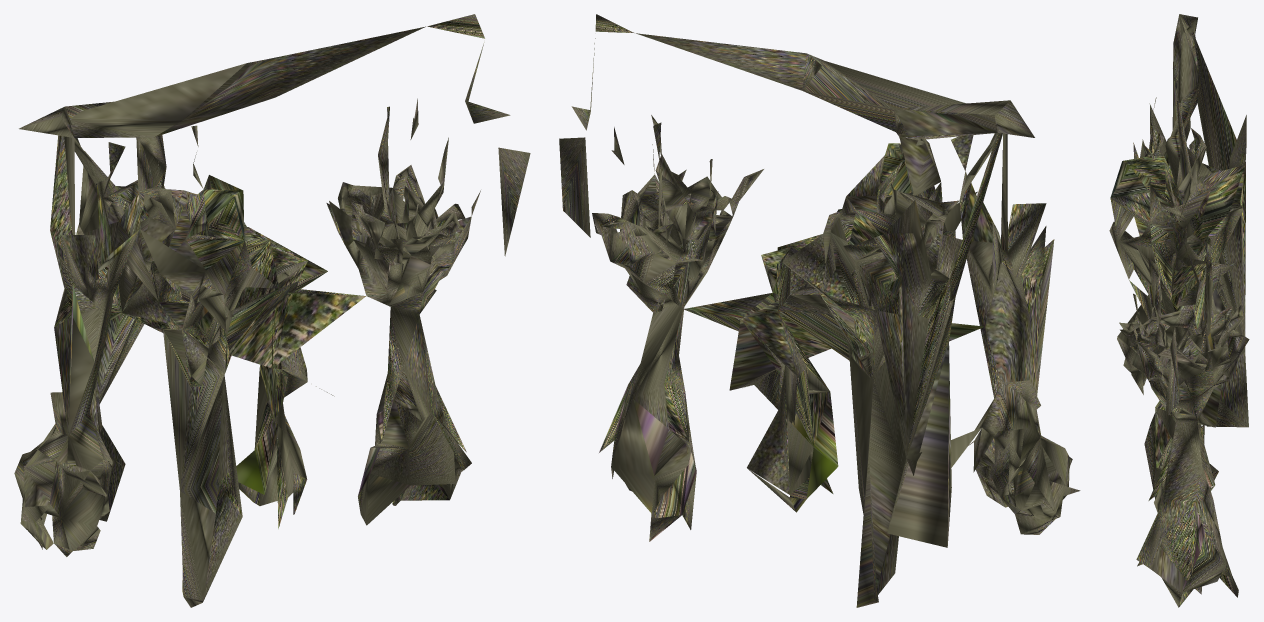
The model's file is Herbal_Harvest.glb.
3 views of the same model, side by side, from view 1: azimuth 30°, elevation 25°; view 2: azimuth 150°, elevation 25°; view 3: azimuth 270°, elevation 25° (orthographic). The views are drawn at different scales.
Visible parts, largest first — view 1: Herbal_Harvest; view 2: Herbal_Harvest; view 3: Herbal_Harvest.
Part boxes in pixels (<box>): Herbal_Harvest: <box>14,14,530,607</box>; Herbal_Harvest: <box>559,14,1080,607</box>; Herbal_Harvest: <box>1109,14,1249,607</box>.
Bounding box in the file's own units: 1.7 × 1.69 × 0.4541.
Materials: 1 (1 with a texture image).
